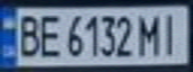1: (81, 11, 100, 57)
2: (115, 11, 136, 58)
3: (97, 11, 118, 58)
6: (63, 11, 84, 58)
B: (12, 10, 42, 58)
E: (36, 11, 63, 58)
I: (157, 9, 187, 56)
M: (136, 11, 163, 57)
